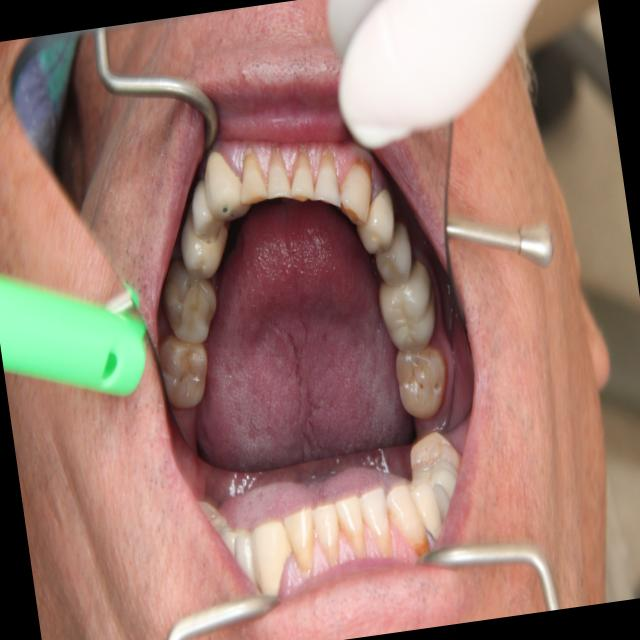tooth: (367, 257, 449, 362), (152, 252, 231, 356), (152, 317, 224, 425), (168, 193, 241, 288), (387, 334, 456, 428), (343, 175, 405, 265), (328, 139, 384, 234), (199, 145, 255, 232), (176, 171, 235, 249), (279, 135, 329, 223), (252, 133, 301, 221), (363, 223, 421, 296), (232, 137, 275, 219), (306, 146, 349, 225)
